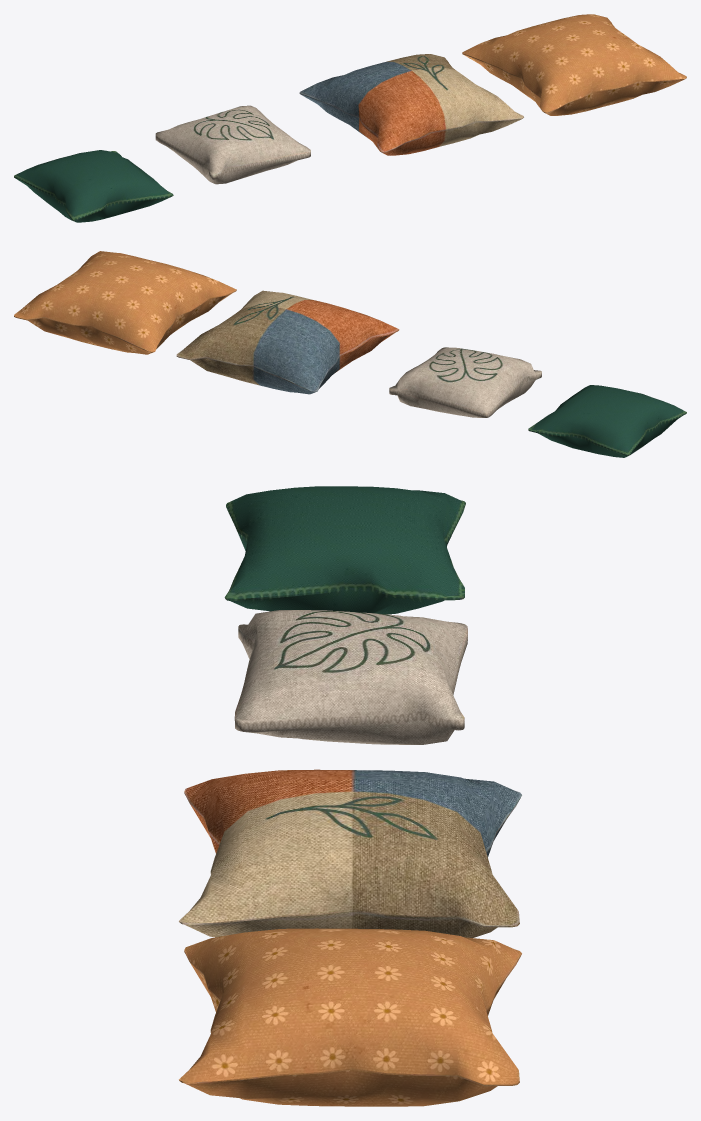
Rendered from pillow_set.glb.
3 renders of one model, top to bottom at view 1: azimuth 30°, elevation 25°; view 2: azimuth 150°, elevation 25°; view 3: azimuth 270°, elevation 25°, orthographic. The views are drawn at different scales.
Parts seen in each view (by area): view 1: PillowSmall01_13 - Default_0; view 2: PillowSmall01_13 - Default_0; view 3: PillowSmall01_13 - Default_0.
Part boxes in pixels (x1=…): PillowSmall01_13 - Default_0: x1=14, y1=14, x2=686, y2=222; PillowSmall01_13 - Default_0: x1=14, y1=251, x2=686, y2=457; PillowSmall01_13 - Default_0: x1=179, y1=486, x2=521, y2=1106.
Size of the model in its own units: 2.03 by 0.2162 by 0.5.
Materials: 1 (1 with a texture image).
